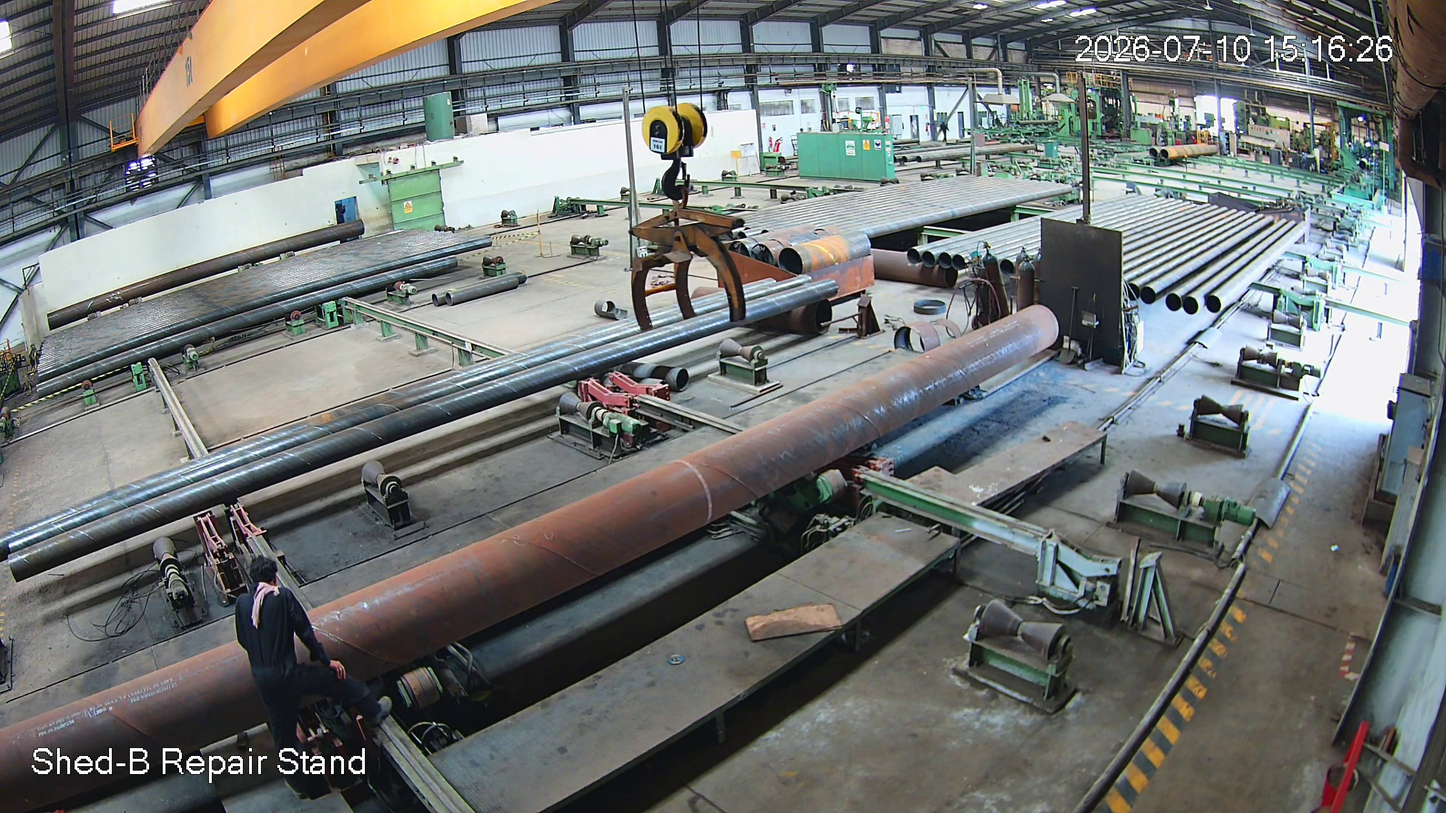Person: (216, 552, 413, 787)
